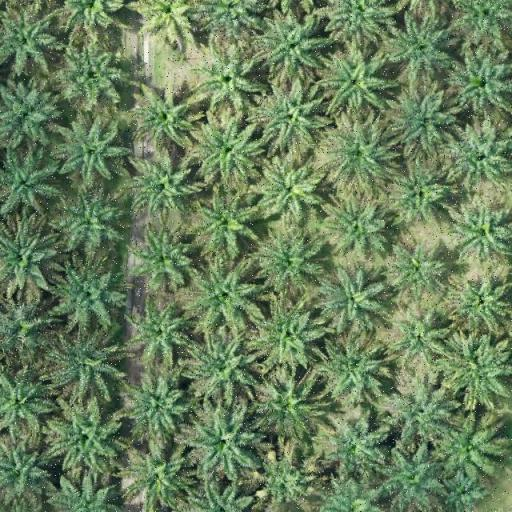Ganoderma: (151, 2, 182, 32)
